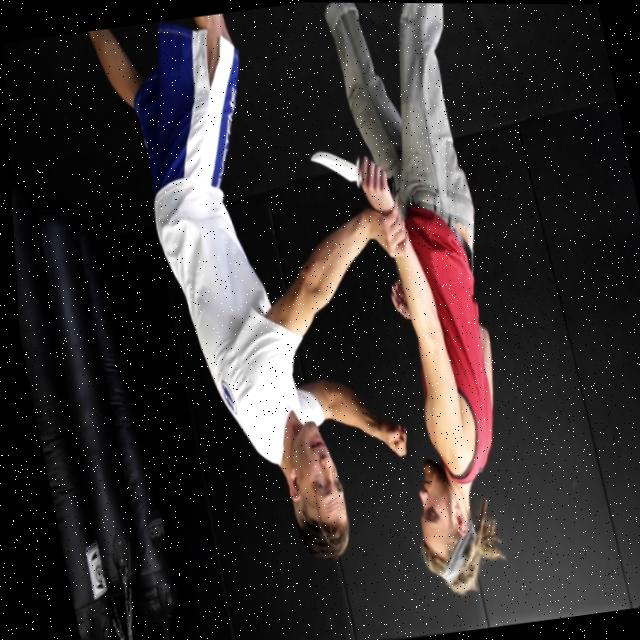knife: (305, 143, 359, 189)
